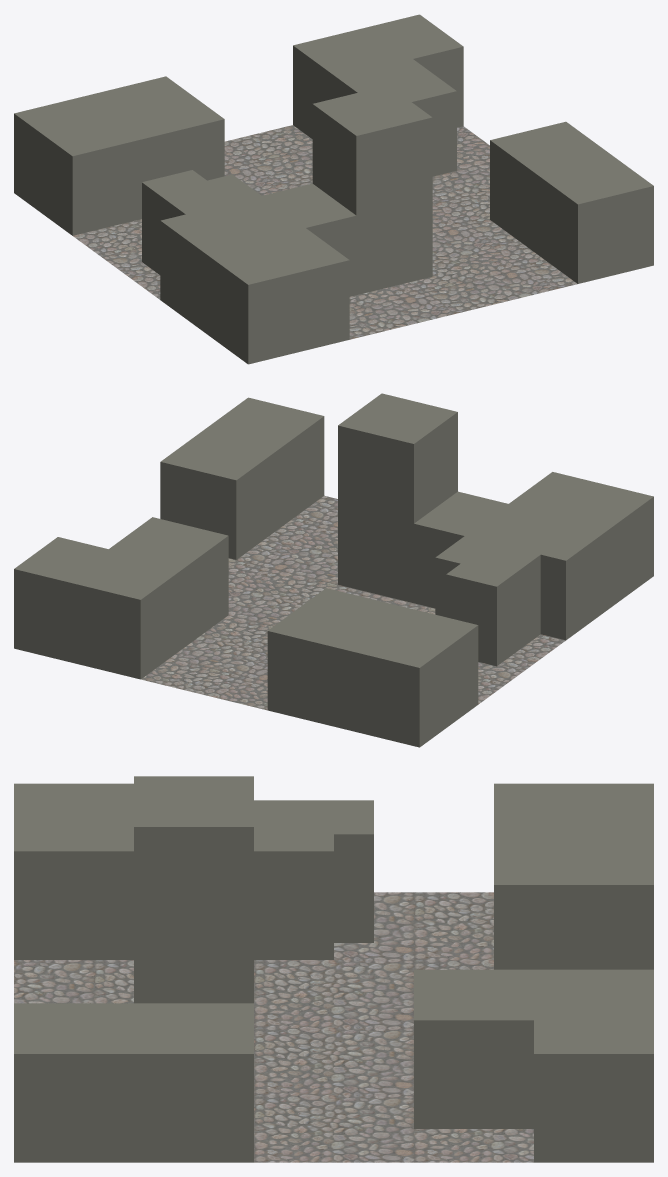
The model's file is tile1.fbx.
3 renders of one model, top to bottom at view 1: azimuth 30°, elevation 25°; view 2: azimuth 150°, elevation 25°; view 3: azimuth 270°, elevation 25°, orthographic. The views are drawn at different scales.
Visible parts, largest first — view 1: Tile1; view 2: Tile1; view 3: Tile1.
Boxes of the visible parts, x1,y1,x2,y2 form: Tile1: (14, 14, 653, 364); Tile1: (14, 393, 653, 747); Tile1: (14, 776, 653, 1162).
Bounding box in the file's own units: 1600 × 600 × 1600.
